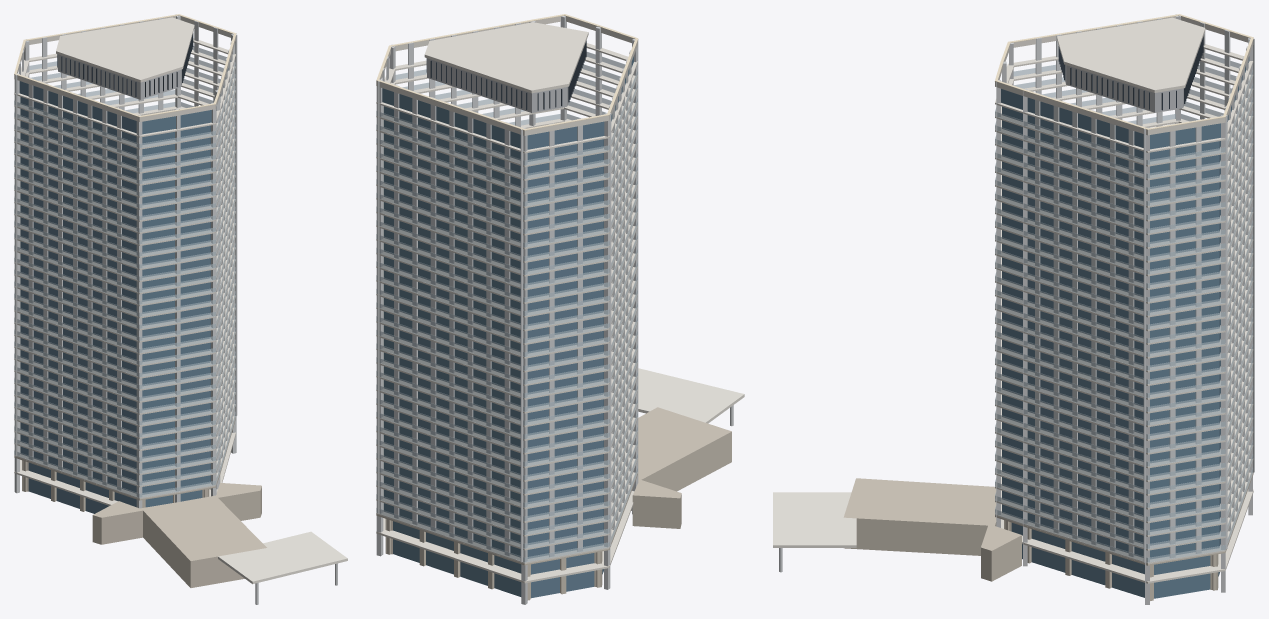
File: akane-tower.glb
3 renders of one model, left to right at view 1: azimuth 30°, elevation 25°; view 2: azimuth 150°, elevation 25°; view 3: azimuth 270°, elevation 25°, orthographic. The views are drawn at different scales.
Visible parts, largest first — view 1: Tower_Slab, Tower_Glass, Tower_Rail, Tower_Fin, Tower_Stone, Tower_Canopy, Tower_Crown, Tower_CrownGlow, Tower_Recess; view 2: Tower_Slab, Tower_Glass, Tower_Rail, Tower_Fin, Tower_Stone, Tower_Canopy, Tower_Crown, Tower_CrownGlow, Tower_Recess; view 3: Tower_Slab, Tower_Glass, Tower_Rail, Tower_Fin, Tower_Stone, Tower_Canopy, Tower_Crown, Tower_CrownGlow, Tower_Recess.
Boxes of the visible parts, x1,y1,x2,y2 form: Tower_Slab: [14, 16, 235, 505]; Tower_Glass: [19, 60, 230, 513]; Tower_Rail: [14, 46, 235, 497]; Tower_Fin: [14, 14, 337, 604]; Tower_Stone: [14, 418, 266, 587]; Tower_Canopy: [218, 531, 347, 584]; Tower_Crown: [58, 54, 182, 99]; Tower_CrownGlow: [14, 14, 236, 117]; Tower_Recess: [57, 33, 193, 97]; Tower_Slab: [376, 16, 637, 583]; Tower_Glass: [382, 56, 633, 598]; Tower_Rail: [376, 52, 637, 562]; Tower_Fin: [376, 16, 733, 604]; Tower_Stone: [376, 407, 731, 600]; Tower_Canopy: [638, 368, 744, 423]; Tower_Crown: [427, 58, 568, 112]; Tower_CrownGlow: [376, 14, 638, 130]; Tower_Recess: [426, 40, 586, 110]; Tower_Slab: [995, 16, 1253, 583]; Tower_Glass: [1001, 56, 1249, 598]; Tower_Rail: [995, 53, 1252, 562]; Tower_Fin: [779, 14, 1254, 604]; Tower_Stone: [843, 473, 1253, 600]; Tower_Canopy: [773, 492, 856, 547]; Tower_Crown: [1065, 65, 1197, 112]; Tower_CrownGlow: [995, 14, 1253, 129]; Tower_Recess: [1058, 36, 1203, 110].
Size of the model in its own units: 52.44 by 104 by 92.31.
